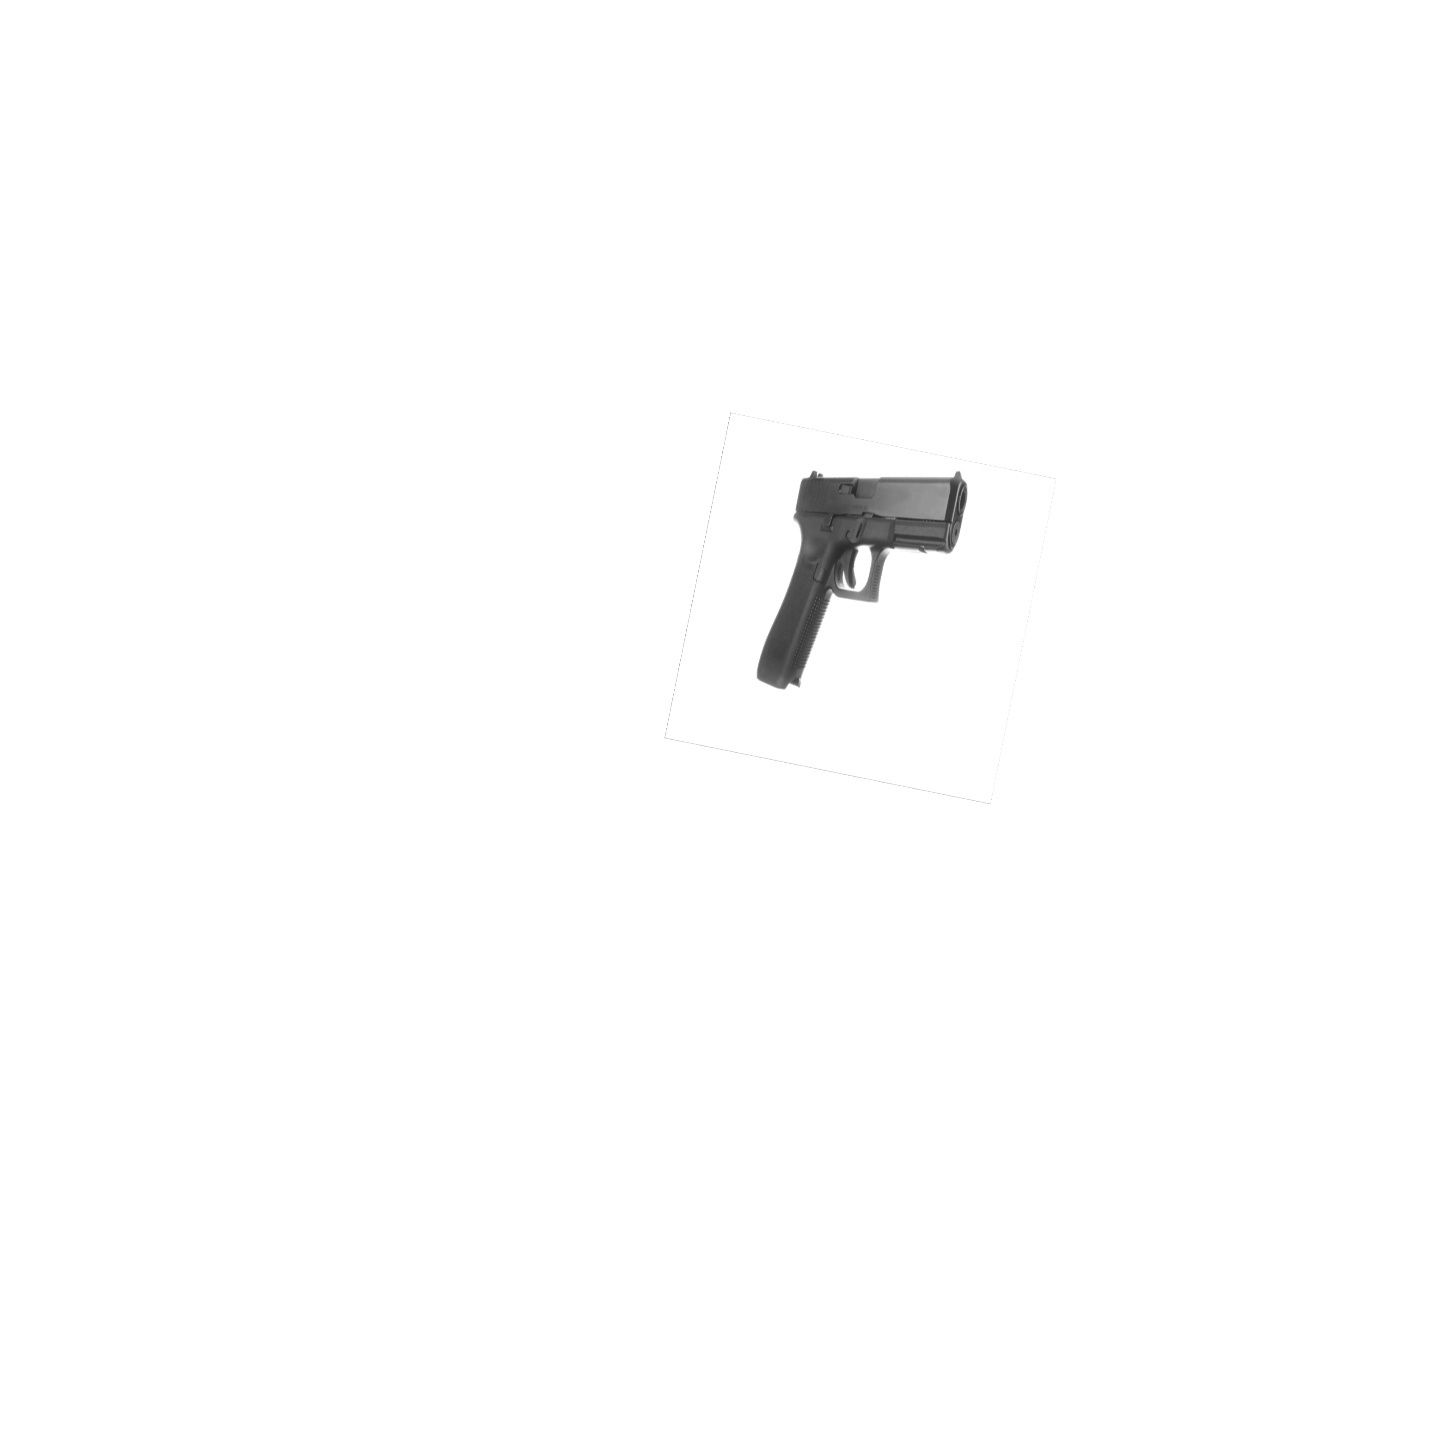gun: (752, 467, 980, 699)
